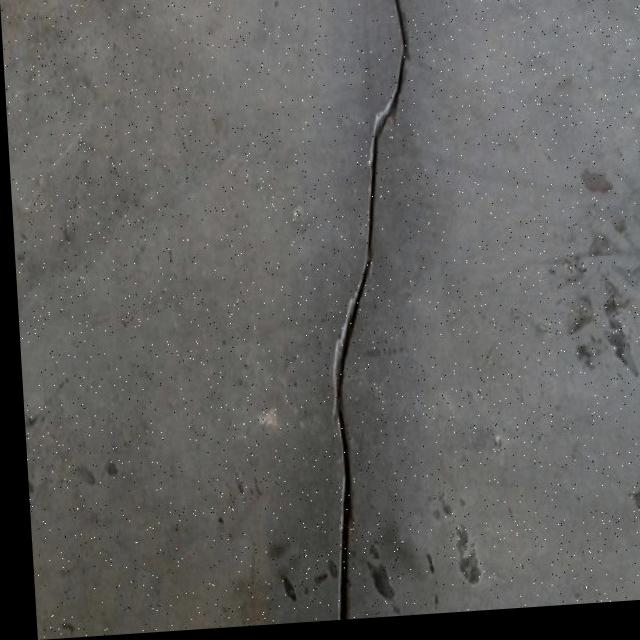Crack: (290, 0, 455, 625)
